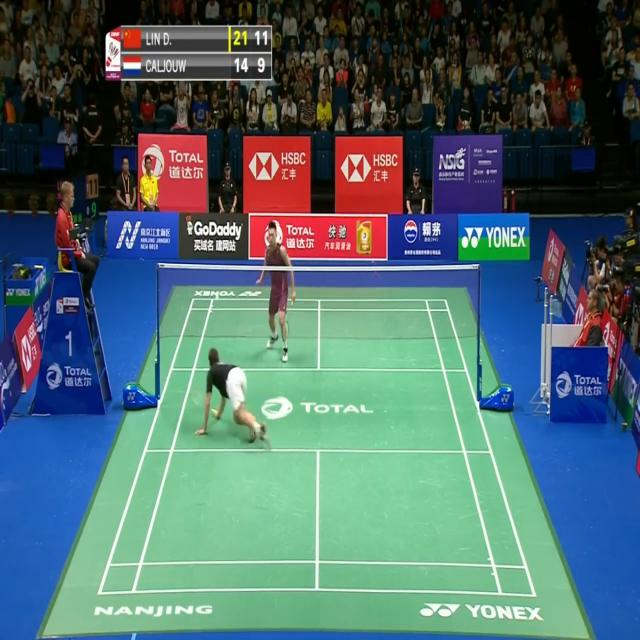Player1: (190, 339, 270, 457)
Player2: (248, 216, 306, 362)
